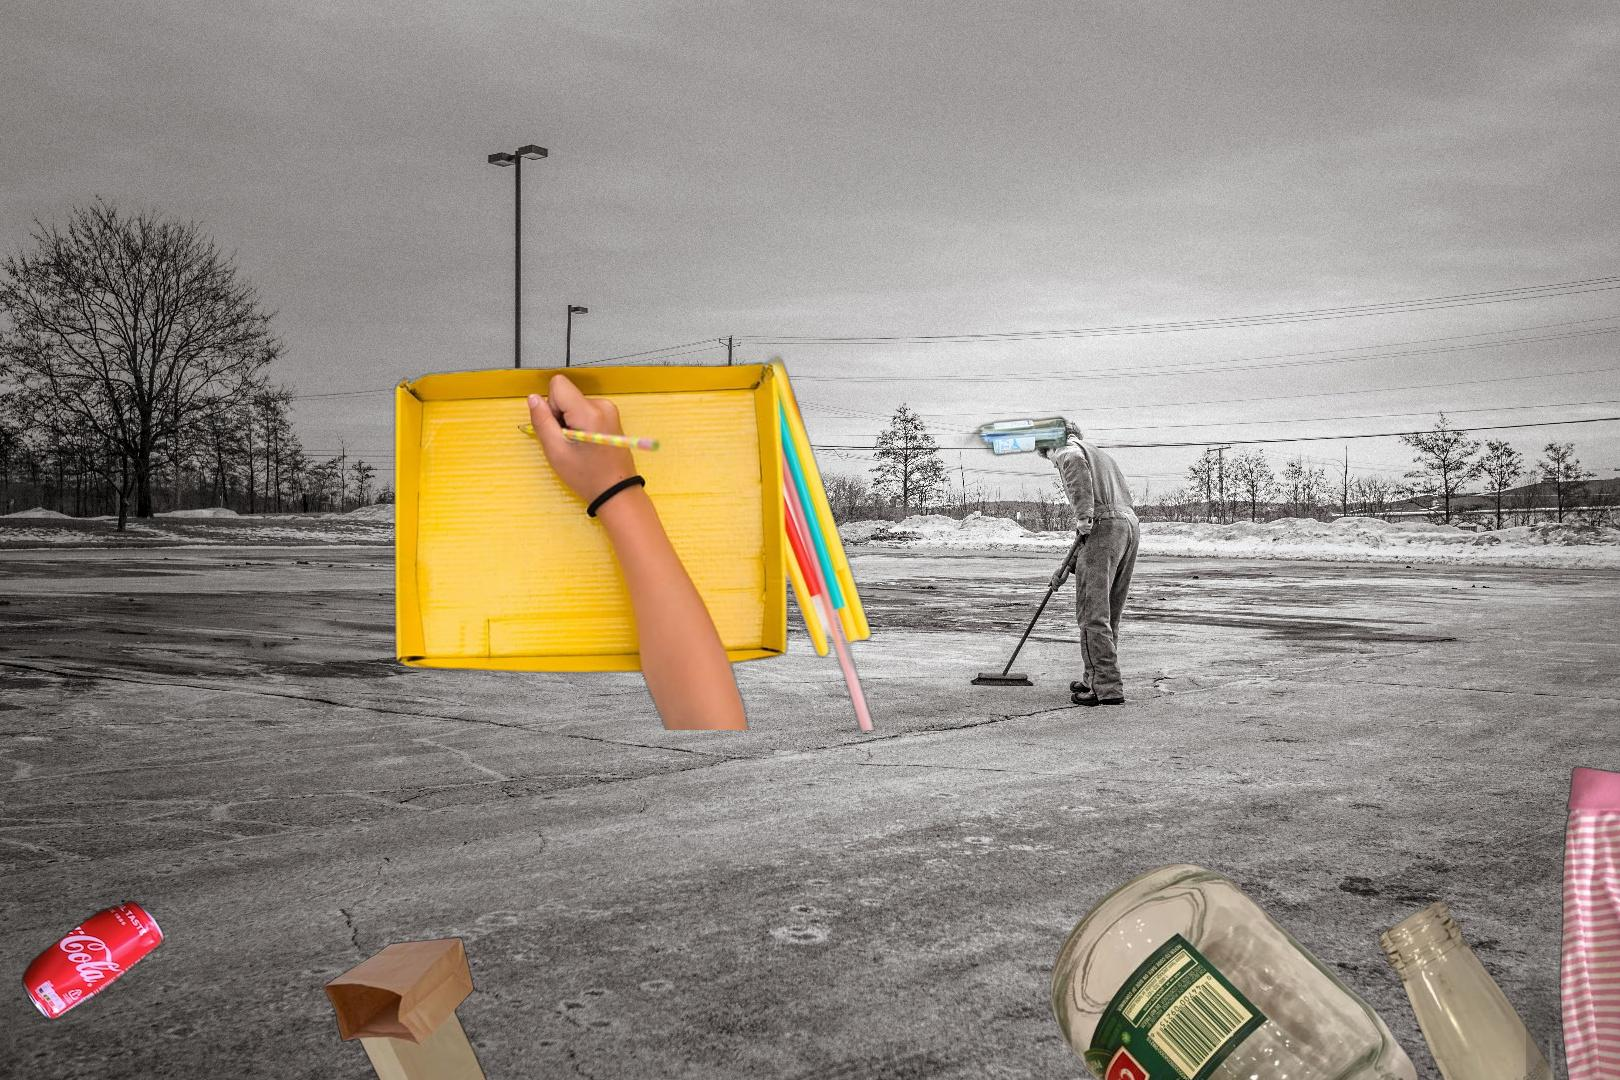clothes: (1526, 753, 1620, 1080)
glass: (702, 133, 1072, 460), (1046, 861, 1440, 1080), (1374, 897, 1620, 1080), (1512, 1016, 1620, 1080)
metal-cans: (17, 896, 169, 1026)
paper-bag: (319, 934, 501, 1080)
trashbox-cardboard: (391, 347, 938, 730)
